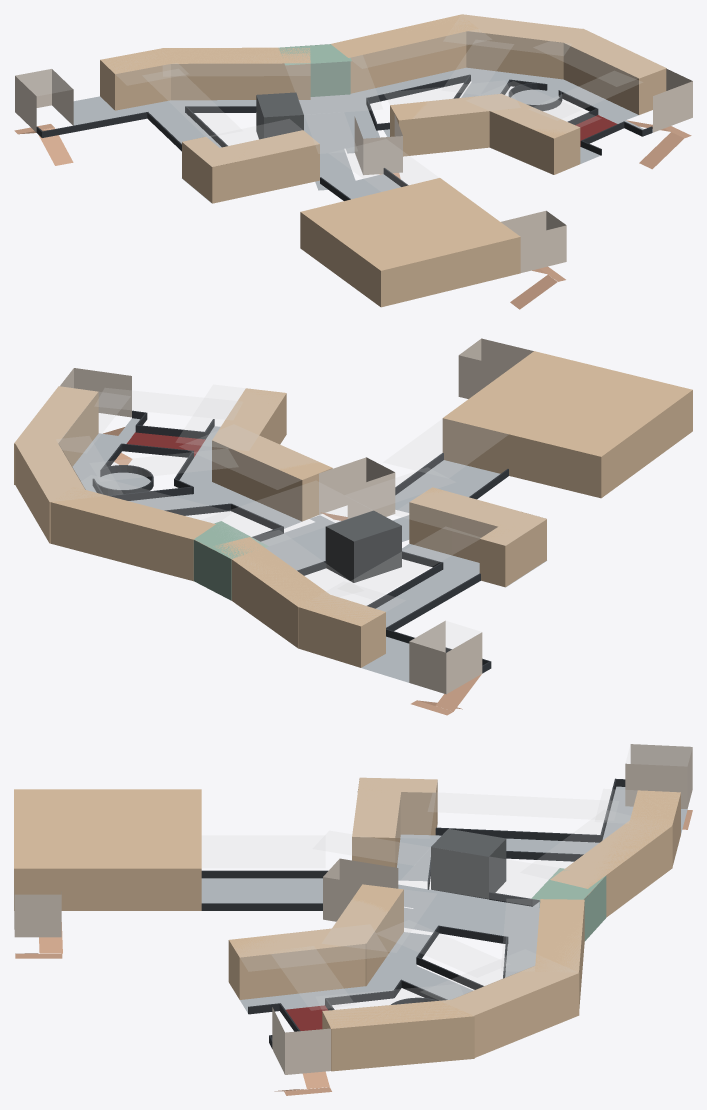
3 renders of one model, top to bottom at view 1: azimuth 30°, elevation 25°; view 2: azimuth 150°, elevation 25°; view 3: azimuth 270°, elevation 25°, orthographic. The views are drawn at different scales.
Parts seen in each view (by area): view 1: 立方體.034, 立方體.033, 立方體.120, 立方體.005, 立方體.130, 立方體.126, 立方體.013, 立方體.008, 立方體.002, 立方體.014, 丁棟5F.001, 立方體.007 (+49 smaller); view 2: 立方體.034, 立方體.016, 立方體.005, 立方體.136, 立方體.008, 立方體.220, 丁棟5F.001, 立方體.002, 立方體.013, 立方體.007, 立方體.006, 立方體.051 (+49 smaller); view 3: 立方體.034, 立方體.130, 立方體.138, 立方體.005, 丁棟5F.001, 丁棟5F.002, 立方體.013, 立方體.023, 立方體.220, 立方體.008, 立方體.010, 立方體.006 (+45 smaller).
Part boxes in pixels (bbox=[...]): 立方體.034: bbox=[300, 178, 520, 307]; 立方體.033: bbox=[171, 63, 310, 100]; 立方體.120: bbox=[350, 31, 475, 93]; 立方體.005: bbox=[286, 55, 382, 114]; 立方體.130: bbox=[560, 42, 666, 114]; 立方體.126: bbox=[466, 31, 581, 79]; 立方體.013: bbox=[183, 119, 318, 166]; 立方體.008: bbox=[468, 81, 600, 132]; 立方體.002: bbox=[534, 29, 664, 86]; 立方體.014: bbox=[399, 111, 489, 156]; 丁棟5F.001: bbox=[444, 15, 581, 55]; 立方體.007: bbox=[383, 81, 520, 118]; 立方體.034: bbox=[442, 351, 692, 498]; 立方體.016: bbox=[50, 502, 193, 580]; 立方體.005: bbox=[203, 481, 372, 546]; 立方體.136: bbox=[212, 440, 332, 521]; 立方體.008: bbox=[176, 385, 283, 450]; 立方體.220: bbox=[325, 510, 401, 582]; 丁棟5F.001: bbox=[16, 436, 122, 501]; 立方體.002: bbox=[15, 387, 130, 452]; 立方體.013: bbox=[392, 491, 545, 545]; 立方體.007: bbox=[180, 425, 317, 489]; 立方體.006: bbox=[383, 419, 507, 477]; 立方體.051: bbox=[319, 457, 395, 518]; 立方體.034: bbox=[14, 789, 201, 910]; 立方體.130: bbox=[322, 1000, 474, 1071]; 立方體.138: bbox=[228, 940, 365, 999]; 立方體.005: bbox=[398, 847, 558, 906]; 丁棟5F.001: bbox=[421, 949, 577, 1014]; 丁棟5F.002: bbox=[474, 973, 579, 1057]; 立方體.013: bbox=[352, 778, 436, 837]; 立方體.023: bbox=[404, 889, 538, 948]; 立方體.220: bbox=[431, 828, 506, 899]; 立方體.008: bbox=[237, 925, 389, 970]; 立方體.010: bbox=[521, 810, 659, 887]; 立方體.006: bbox=[202, 836, 324, 867].
Bounding box in the file's own units: 43.73 × 6 × 43.39.
